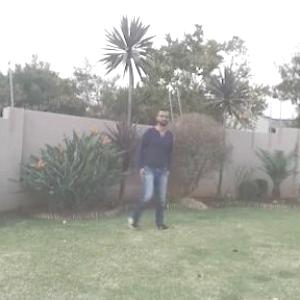follow: (137, 108, 171, 225)
